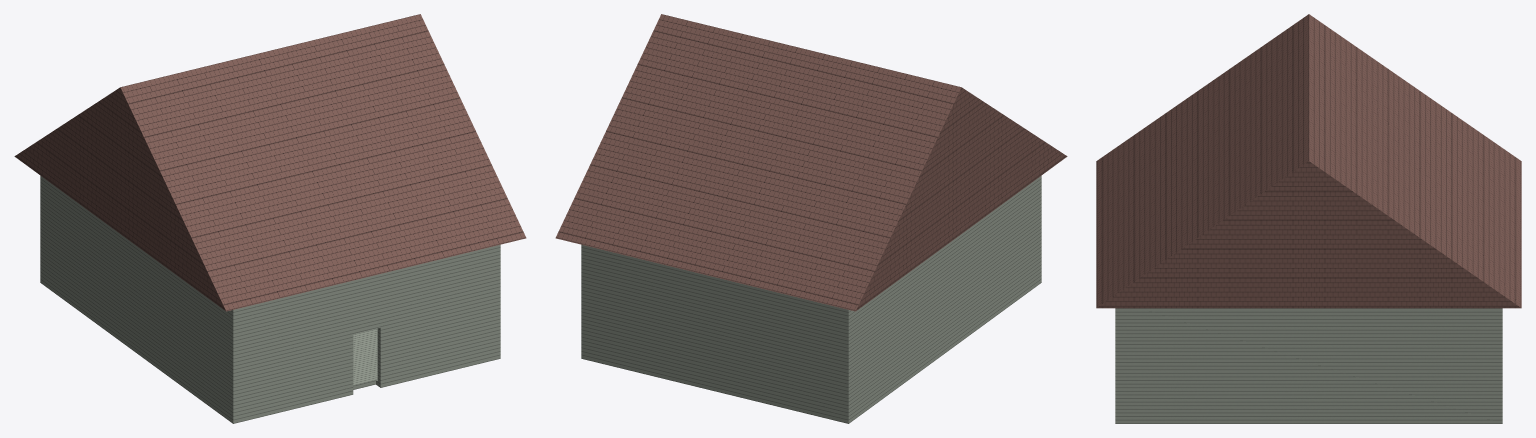
File: farmhouse_gable.glb
3 views of the same model, side by side, from view 1: azimuth 30°, elevation 25°; view 2: azimuth 150°, elevation 25°; view 3: azimuth 270°, elevation 25° (orthographic).
Visible parts, largest first — view 1: farmhouse_gable-col; view 2: farmhouse_gable-col; view 3: farmhouse_gable-col.
Boxes of the visible parts, x1,y1,x2,y2 form: farmhouse_gable-col: (14,14,526,423); farmhouse_gable-col: (555,14,1067,423); farmhouse_gable-col: (1096,14,1521,423).
Bounding box in the file's own units: 10.95 × 9.42 × 13.39.
2 materials, 2 textured.
